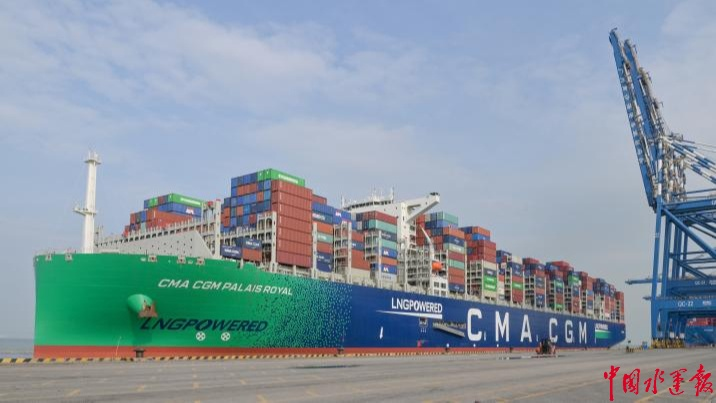Cargoship: (23, 166, 625, 367)
